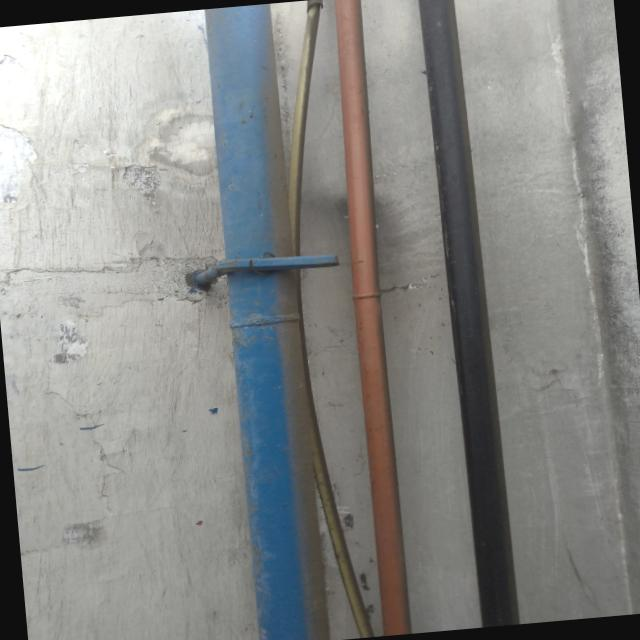gas: (199, 4, 327, 640), (413, 0, 519, 628), (323, 0, 417, 636)
